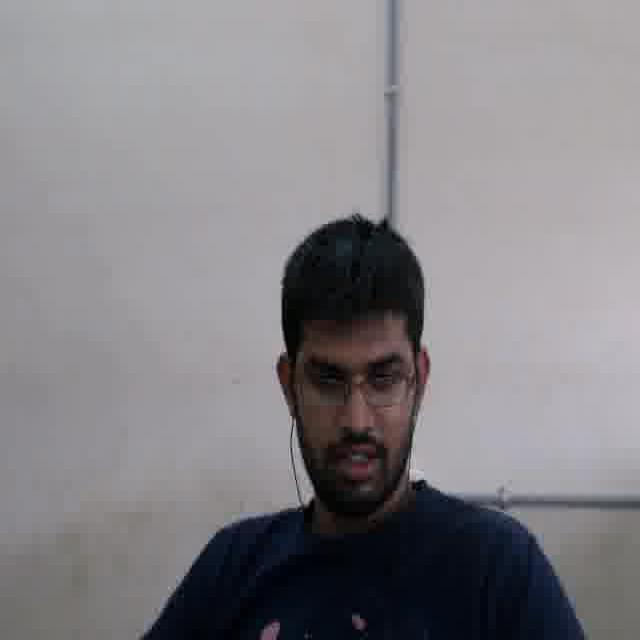Engaged: (290, 306, 413, 506)
